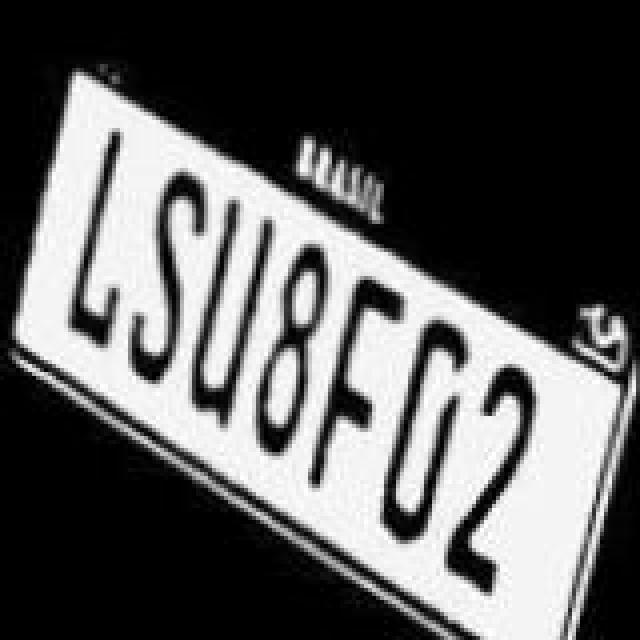2: (444, 348, 540, 596)
8: (250, 202, 334, 514)
D: (380, 280, 472, 564)
F: (310, 240, 402, 520)
L: (44, 100, 136, 348)
S: (126, 146, 210, 418)
U: (182, 162, 278, 426)
